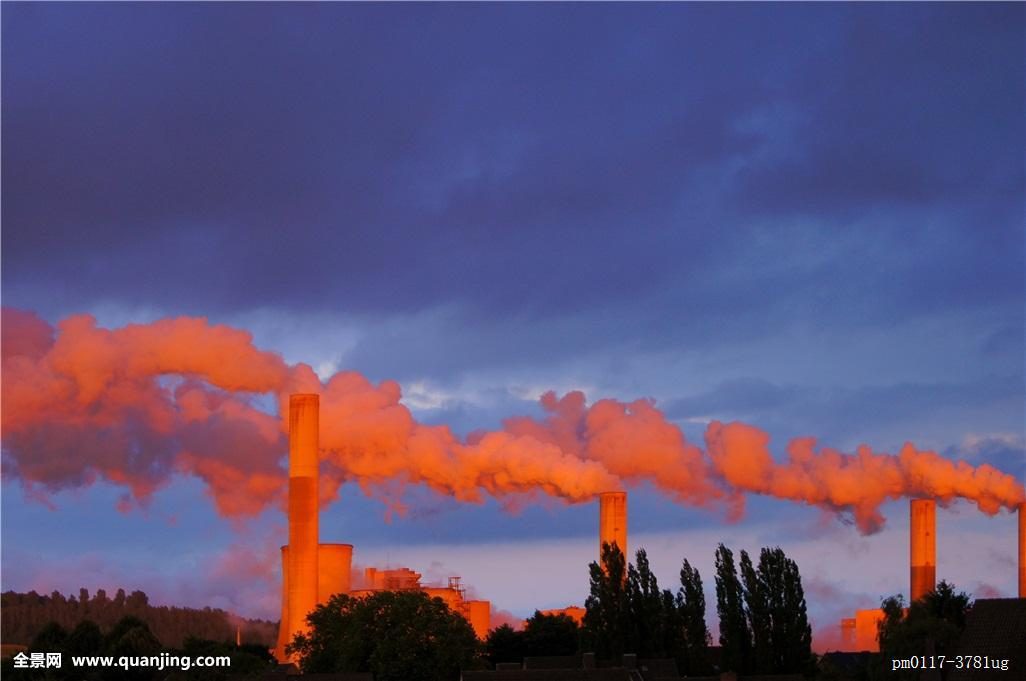dust: (690, 421, 1024, 519), (362, 407, 638, 525), (94, 301, 329, 417)
